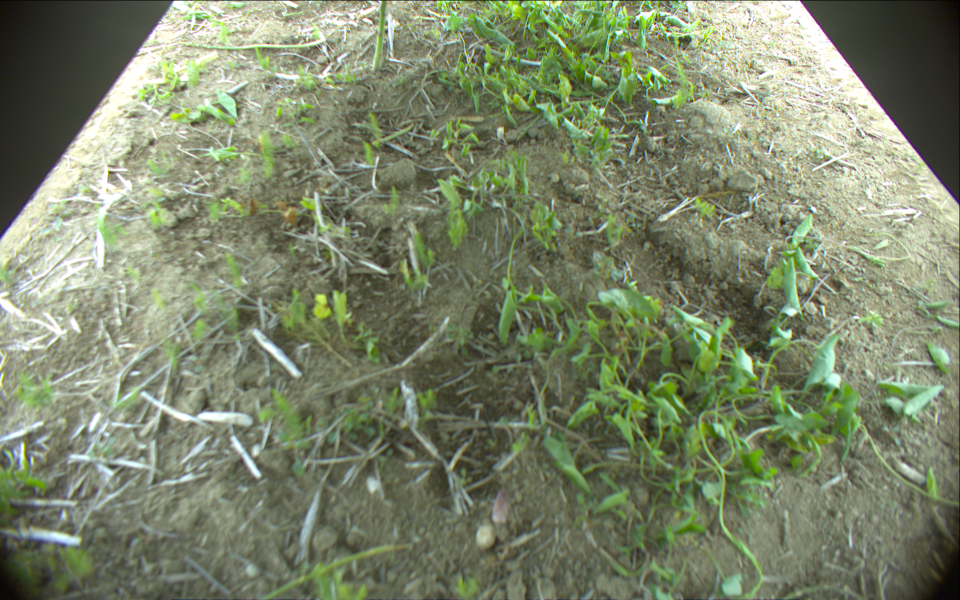aspa: (260, 542, 415, 600), (183, 38, 326, 51), (371, 1, 388, 73)
